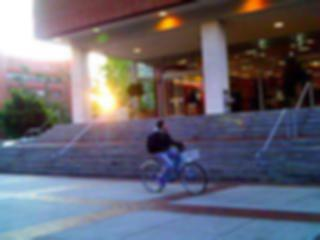Escaleras: (0, 137, 319, 177), (0, 109, 319, 141)
